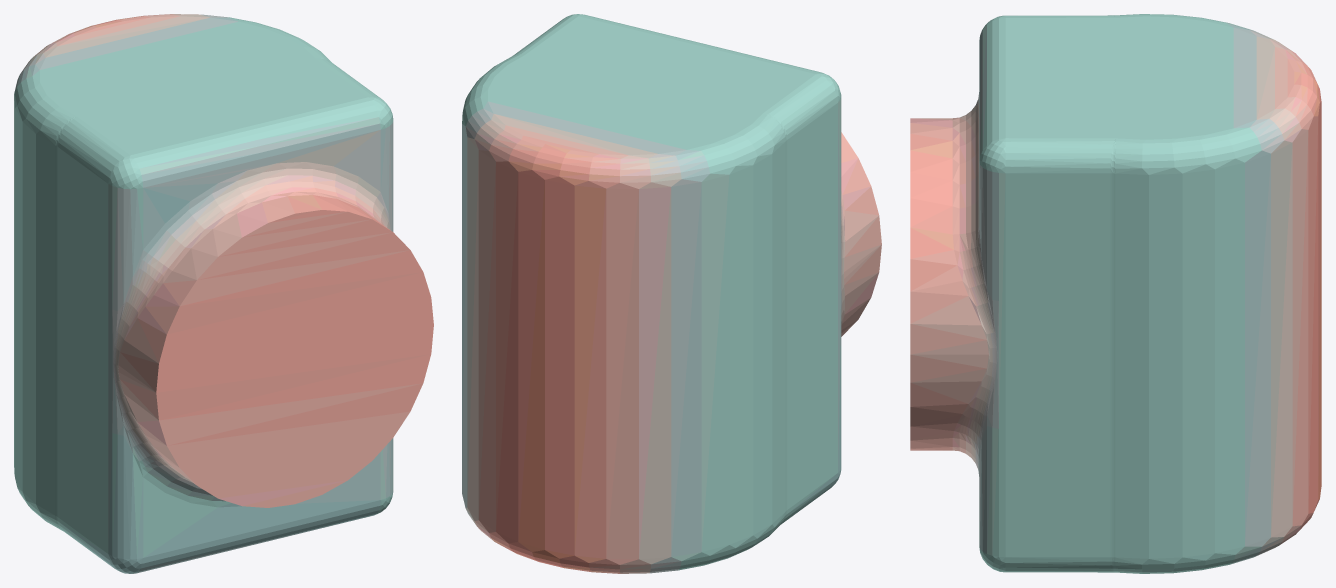
Rendered from UnitreeZ1Link1.dae.
3 renders of one model, left to right at view 1: azimuth 30°, elevation 25°; view 2: azimuth 150°, elevation 25°; view 3: azimuth 270°, elevation 25°, orthographic. The views are drawn at different scales.
Visible parts, largest first — view 1: UnitreeZ1Link1; view 2: UnitreeZ1Link1; view 3: UnitreeZ1Link1.
Part boxes in pixels (x1=…): UnitreeZ1Link1: x1=14, y1=14, x2=433, y2=573; UnitreeZ1Link1: x1=462, y1=14, x2=881, y2=573; UnitreeZ1Link1: x1=910, y1=14, x2=1321, y2=573.
Bounding box in the file's own units: 0.0652 × 0.0777 × 0.09.
